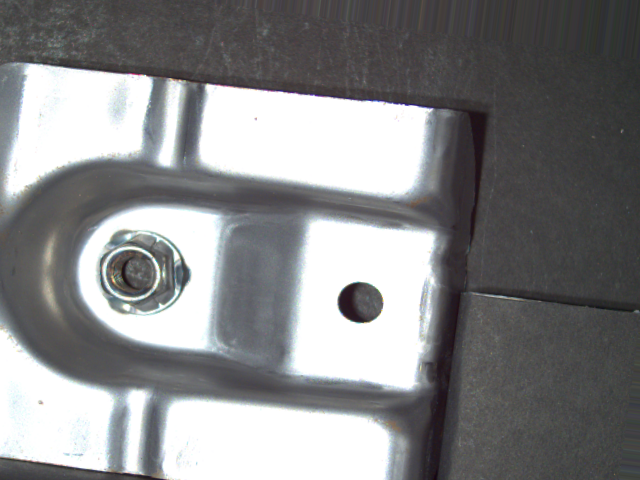good: (94, 226, 195, 326)
